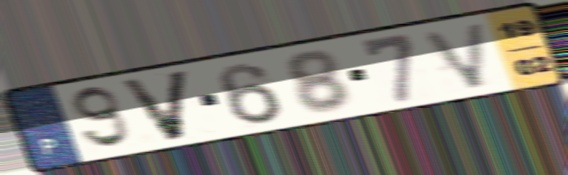6: (214, 61, 284, 126)
7: (357, 32, 419, 106)
8: (283, 48, 357, 118)
9: (68, 85, 134, 152)
V: (115, 67, 194, 144), (418, 19, 490, 92)
